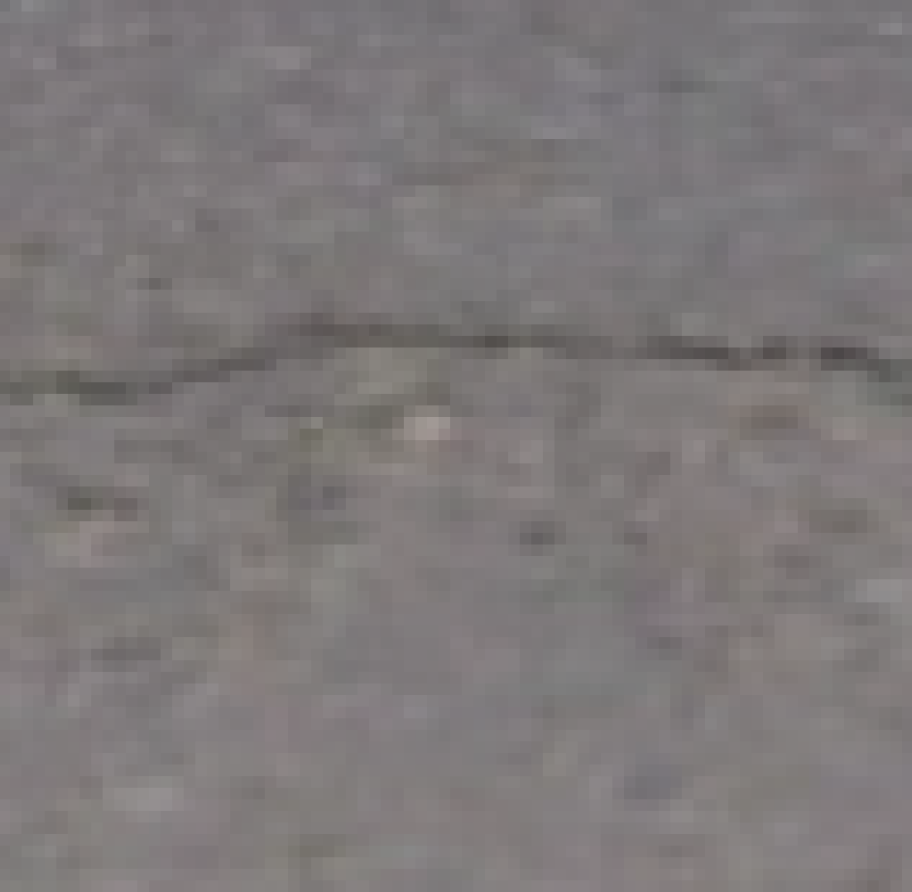Retak Melintang: (1, 257, 912, 543)
